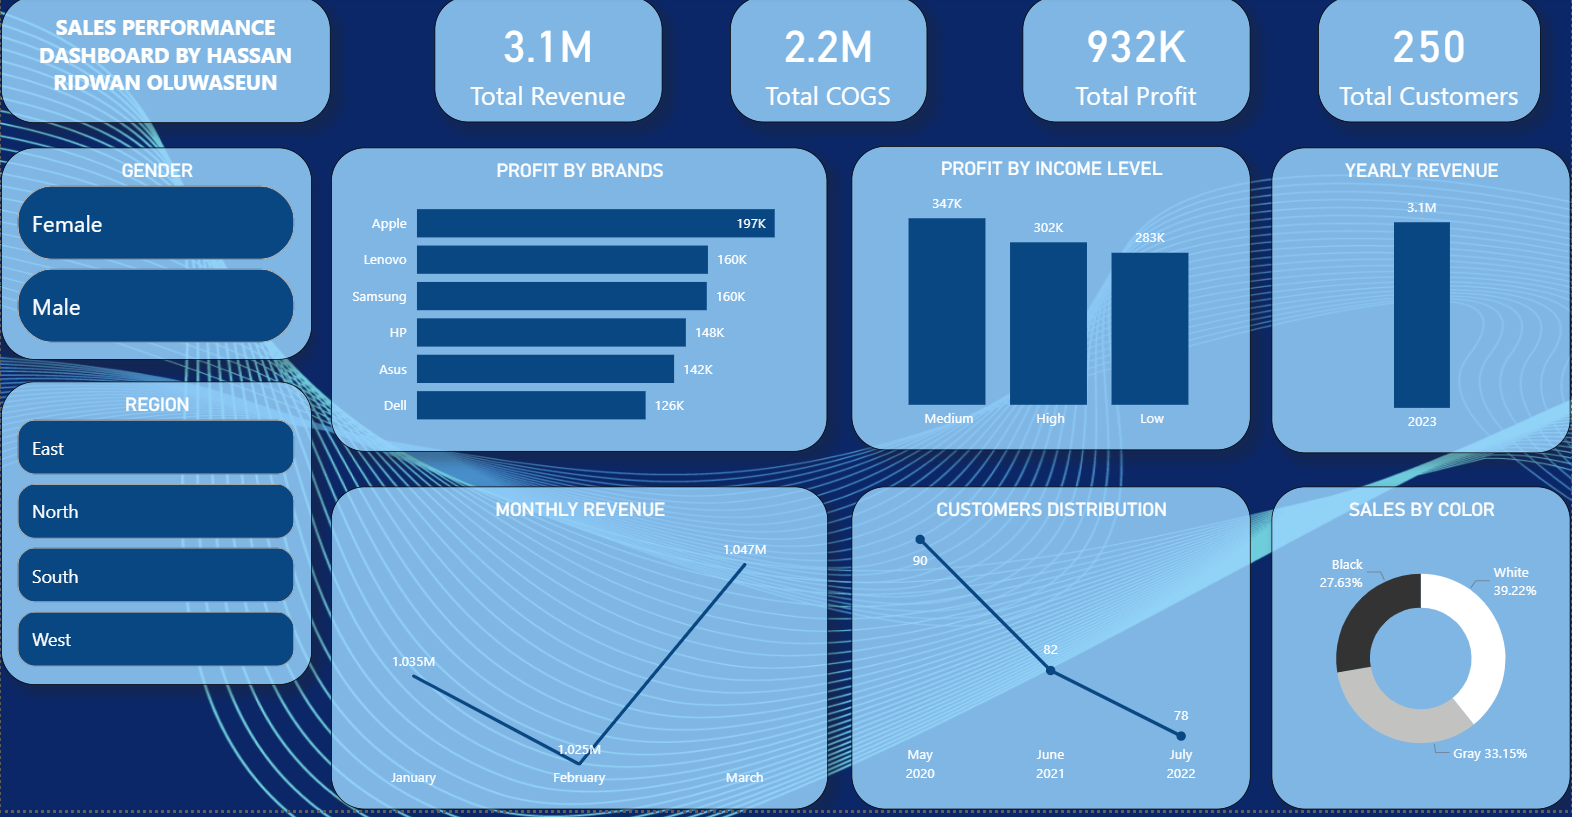

The dashboard page shown, as its layout file describes it:
{"tool":"powerbi","page":{"name":"Page 1","canvas":[1400,726],"ordinal":0},"visuals":[{"type":"card","fields":{"Values":["Sales.Total Customers"]},"box":[1174.8,0,198.6,112.8],"z":0},{"type":"clusteredBarChart","title":"PROFIT BY BRANDS","fields":{"Category":["Products.Brand"],"Y":["Sales.Total Profit"]},"box":[294.3,135.1,442.8,271.6],"z":1000},{"type":"donutChart","title":"SALES BY COLOR","fields":{"Category":["Products.Color"],"Y":["Sales.Total Revenue"]},"box":[1132.6,437.8,266.9,288.1],"z":2000},{"type":"lineChart","title":"MONTHLY REVENUE","fields":{"Category":["Sales.Month"],"Y":["Sales.Total Revenue"]},"box":[293.7,437.8,443.4,288.1],"z":3000},{"type":"clusteredColumnChart","title":"PROFIT BY INCOME LEVEL","fields":{"Category":["Customers.IncomeLevel"],"Y":["Sales.Total Profit"]},"box":[758.4,134.2,355.9,271.2],"z":4000},{"type":"lineChart","title":"CUSTOMERS DISTRIBUTION","fields":{"Y":["CountNonNull(Customers.CustomerID)"],"Category":["DATE.Year","DATE.Month"]},"box":[758.4,437.8,355.9,288.1],"z":5000},{"type":"clusteredColumnChart","title":"YEARLY REVENUE","fields":{"Category":["Sales.Year"],"Y":["Sales.Total Revenue"]},"box":[1132.6,135.6,266.9,272.6],"z":6000},{"type":"card","fields":{"Values":["Sales.Total Profit"]},"box":[911.5,0,203.1,112.8],"z":7000},{"type":"card","fields":{"Values":["Sales.Total COGS"]},"box":[649.8,0,176,112.8],"z":8000},{"type":"card","fields":{"Values":["Sales.Total Revenue"]},"box":[386.6,0,203.1,112.8],"z":9000},{"type":"textbox","box":[0,0,294.2,113],"z":10000},{"type":"advancedSlicerVisual","title":"REGION","fields":{"Values":["Customers.Region"]},"box":[0,344,277.6,270.9],"z":11000},{"type":"advancedSlicerVisual","title":"GENDER","fields":{"Values":["Customers.Gender"]},"box":[0,134.6,277.6,189.5],"z":12000}]}

Visuals, with their boxes in screenshot pixels (x1, y1, x2, y2), scaled from the page's 1400x726 canvas onto the 1572x817 screenshot:
card - Sales.Total Customers: rect(1319, 0, 1542, 127)
"PROFIT BY BRANDS" clusteredBarChart: rect(330, 152, 828, 458)
"SALES BY COLOR" donutChart: rect(1272, 493, 1571, 816)
"MONTHLY REVENUE" lineChart: rect(330, 493, 828, 816)
"PROFIT BY INCOME LEVEL" clusteredColumnChart: rect(852, 151, 1251, 456)
"CUSTOMERS DISTRIBUTION" lineChart: rect(852, 493, 1251, 816)
"YEARLY REVENUE" clusteredColumnChart: rect(1272, 153, 1571, 459)
card - Sales.Total Profit: rect(1023, 0, 1252, 127)
card - Sales.Total COGS: rect(730, 0, 927, 127)
card - Sales.Total Revenue: rect(434, 0, 662, 127)
textbox: rect(0, 0, 330, 127)
"REGION" advancedSlicerVisual: rect(0, 387, 312, 692)
"GENDER" advancedSlicerVisual: rect(0, 151, 312, 365)
